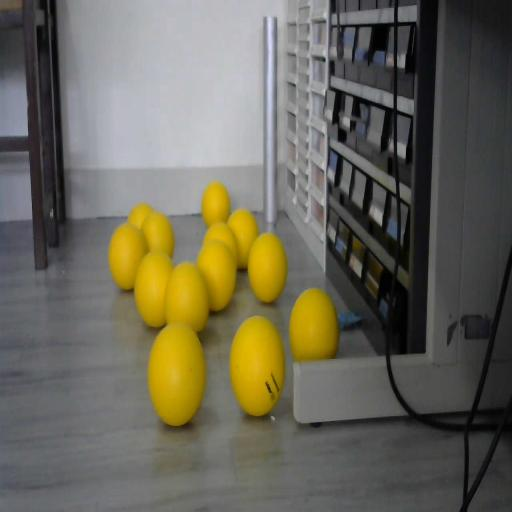FUEL: (147, 322, 206, 426), (228, 314, 286, 416), (289, 288, 339, 364), (164, 262, 210, 334), (134, 250, 175, 328), (196, 239, 238, 312), (248, 231, 288, 303), (108, 222, 147, 291), (227, 208, 259, 269), (201, 222, 239, 268), (141, 211, 175, 260), (202, 182, 230, 228), (128, 203, 155, 232)
